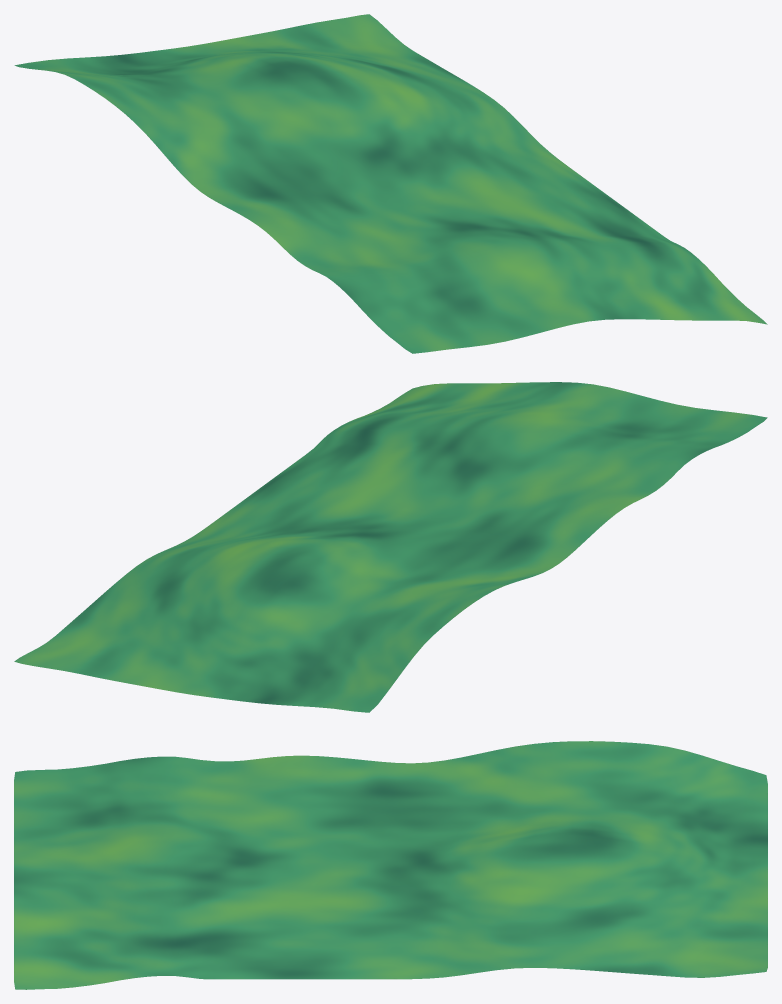
The model's file is Ground.glb.
The picture shows the model from 3 angles, top to bottom: view 1: azimuth 30°, elevation 25°; view 2: azimuth 150°, elevation 25°; view 3: azimuth 270°, elevation 25°; orthographic projection. The views are drawn at different scales.
Visible parts, largest first — view 1: Ground2bake; view 2: Ground2bake; view 3: Ground2bake.
Boxes of the visible parts, <box> form: Ground2bake: <box>14,14,767,353</box>; Ground2bake: <box>14,382,767,712</box>; Ground2bake: <box>14,741,767,989</box>.
Size of the model in its own units: 17.19 by 4.1 by 33.28.
Materials: 1 (1 with a texture image).
